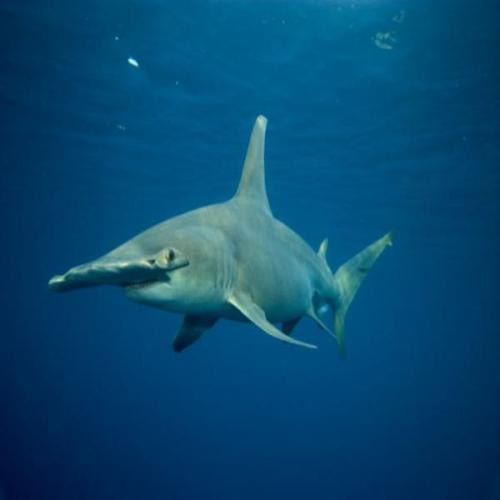shark-endangered: (48, 113, 396, 362)
